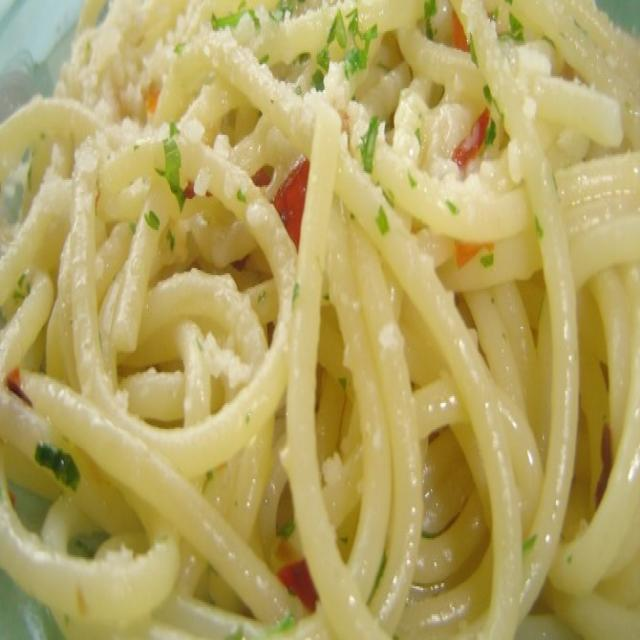Oil pasta: (34, 45, 640, 640)
